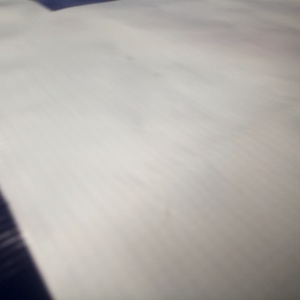bottom_left: (1, 29, 91, 58)
bottom_right: (58, 24, 149, 54)
top_right: (64, 8, 139, 33)
